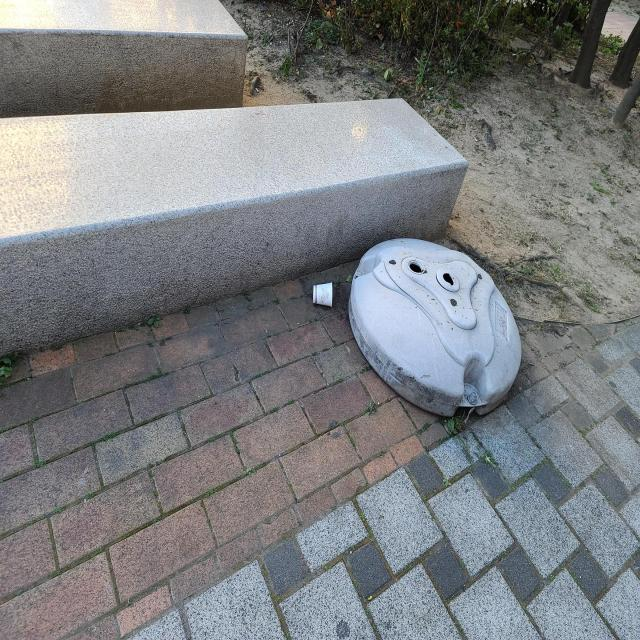paperpack: (314, 282, 333, 306)
